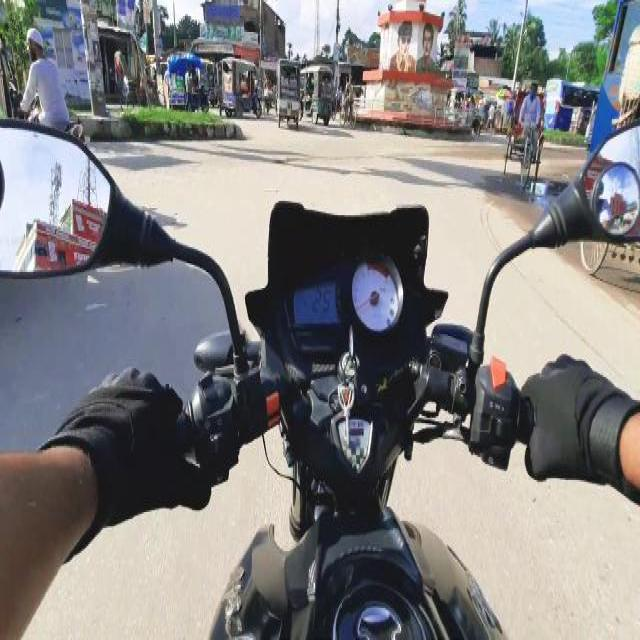auto rickshaw: (221, 56, 263, 115), (167, 55, 210, 112), (300, 63, 330, 122), (276, 56, 298, 125), (452, 88, 484, 132), (260, 60, 276, 114)
bicycle: (338, 76, 356, 127)
bus: (546, 78, 594, 132)
motorbike: (1, 115, 640, 632)
rickshaw: (503, 84, 541, 186), (114, 47, 166, 106)
